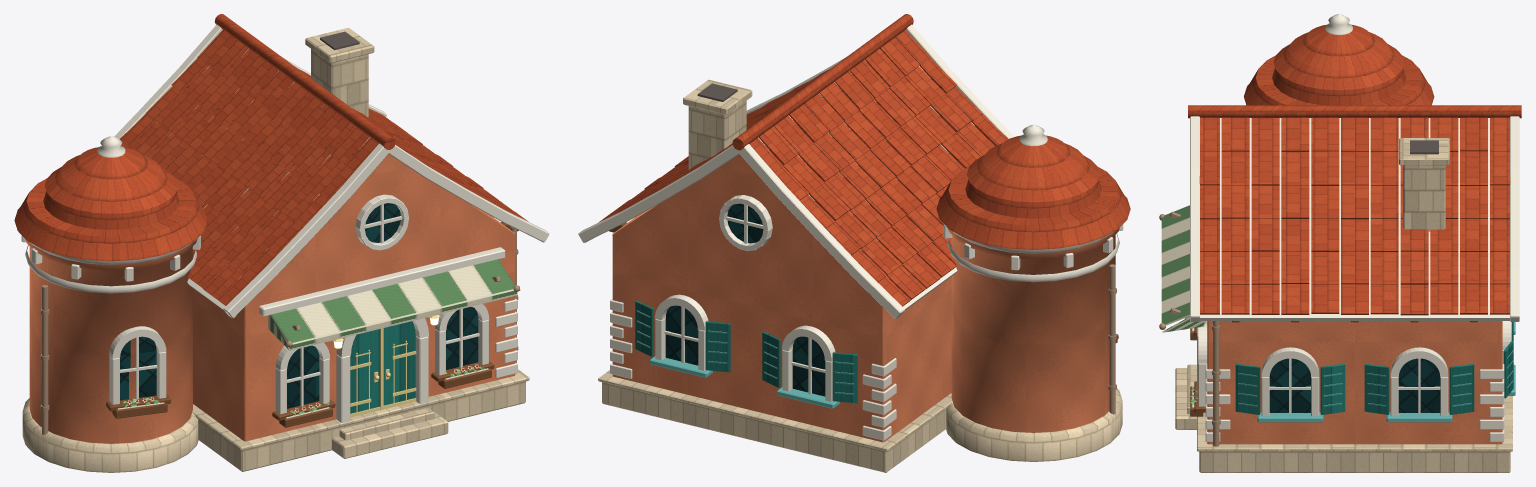
File: market-coral-v81OSVGK.glb
The picture shows the model from 3 angles, left to right: view 1: azimuth 30°, elevation 25°; view 2: azimuth 150°, elevation 25°; view 3: azimuth 270°, elevation 25°; orthographic projection.
Visible parts, largest first — view 1: market-coral; view 2: market-coral; view 3: market-coral.
Boxes of the visible parts, <box> form: market-coral: <box>14,14,549,472</box>; market-coral: <box>578,14,1130,472</box>; market-coral: <box>1159,14,1521,472</box>.
Bounding box in the file's own units: 10.22 × 6.65 × 7.3.
Materials: 15 (7 with a texture image).
